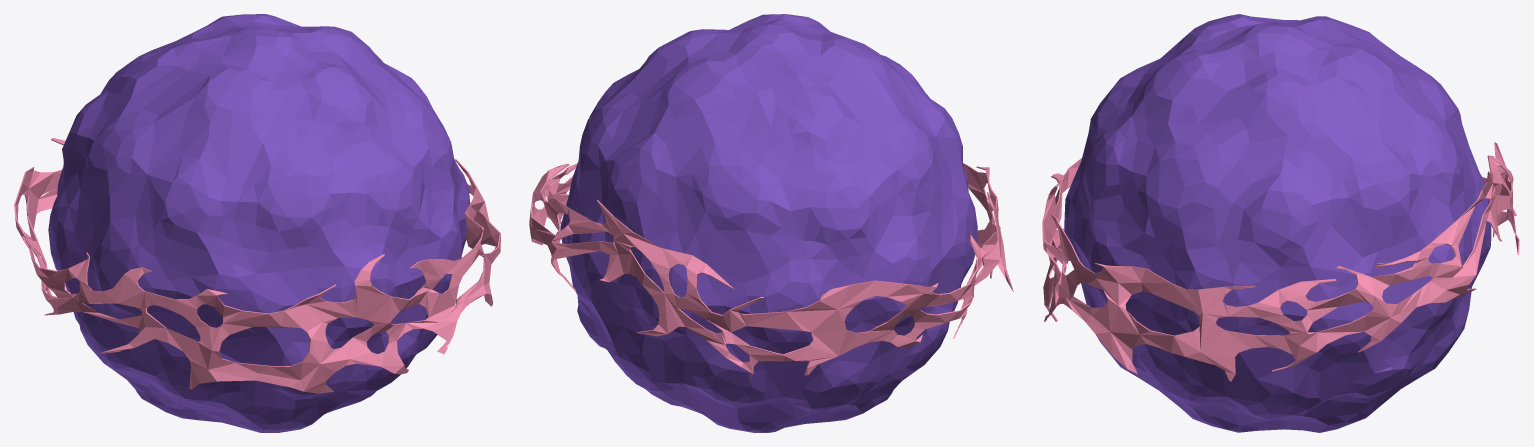
File: Planet_44.glb
3 renders of one model, left to right at view 1: azimuth 30°, elevation 25°; view 2: azimuth 150°, elevation 25°; view 3: azimuth 270°, elevation 25°, orthographic.
Visible parts, largest first — view 1: Planet_44; view 2: Planet_44; view 3: Planet_44.
Boxes of the visible parts, x1=… form: Planet_44: x1=14, y1=14, x2=500, y2=432; Planet_44: x1=529, y1=14, x2=1013, y2=432; Planet_44: x1=1042, y1=14, x2=1519, y2=432.
Size of the model in its own units: 22.53 by 19.74 by 22.07.
Materials: 1 (1 with a texture image).
